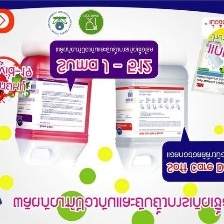cleaning_solution: (12, 52, 96, 169), (112, 61, 190, 175), (188, 17, 224, 97)
